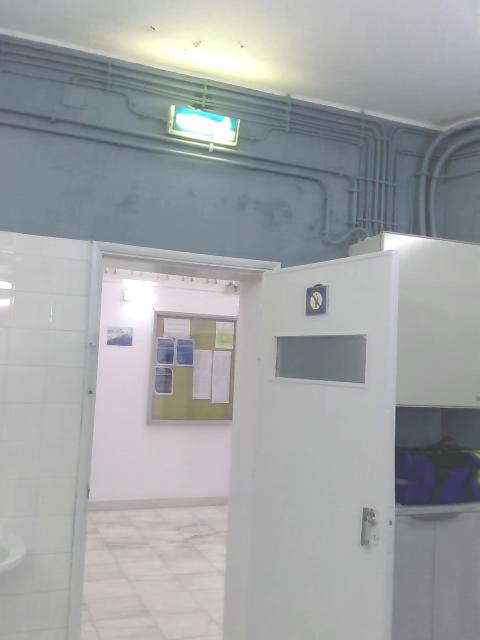open_door: (66, 238, 282, 639)
